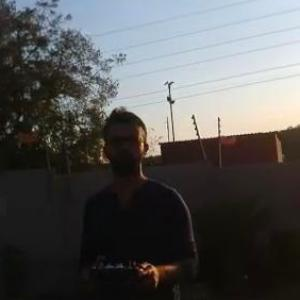follow: (76, 105, 204, 299)
